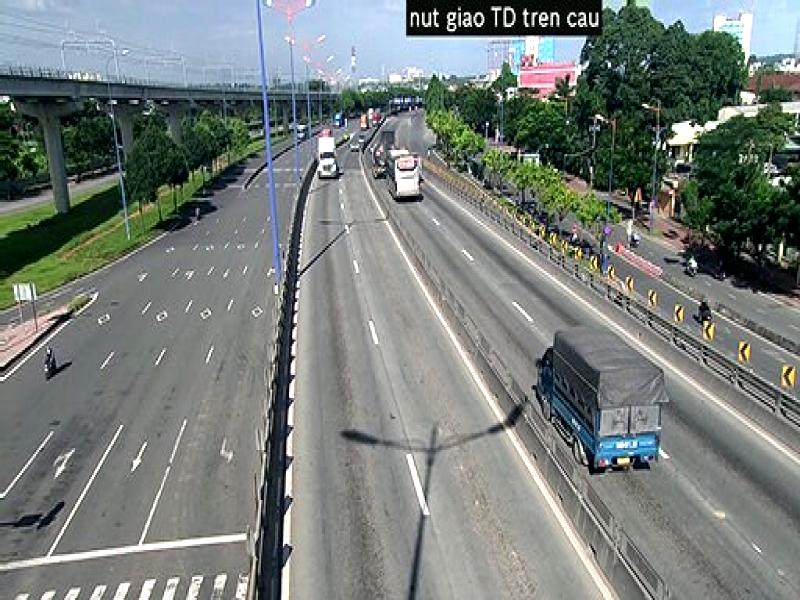truck: (536, 319, 670, 481)
